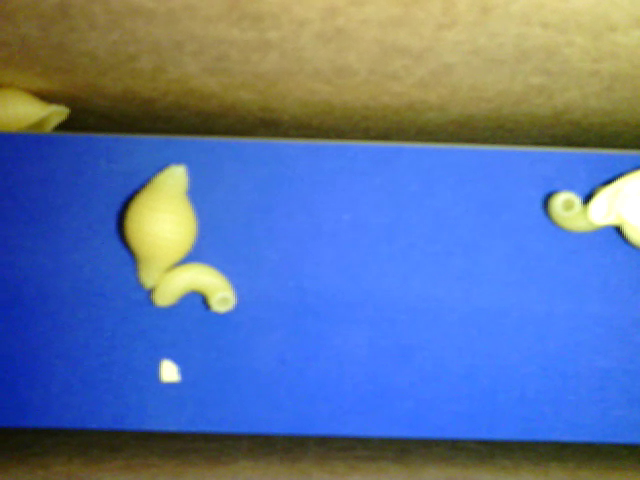elbow: (544, 170, 614, 243), (148, 266, 243, 319)
shell: (120, 155, 197, 296), (3, 90, 81, 134)
tortellini: (590, 163, 638, 249)
